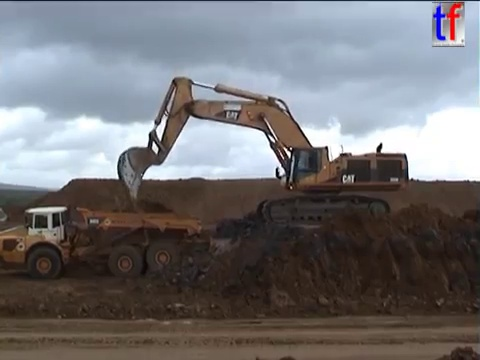excavator: (114, 73, 411, 229)
truck: (1, 203, 203, 281)
